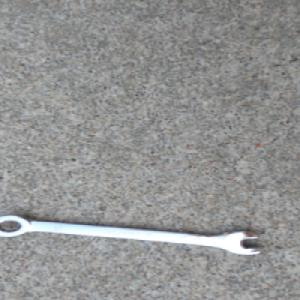Wrench: (0, 212, 263, 256)
